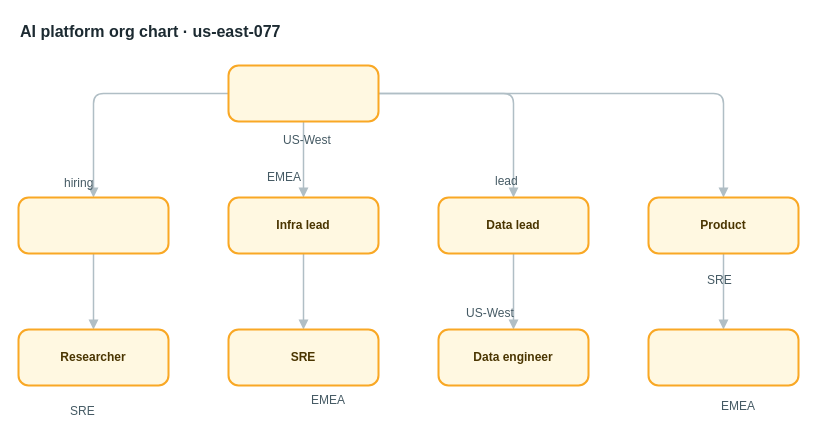
Some shapes in this 816 by 436 pixel diagram are drawn without their labels. The centre of each missing label's shape, as x and y in pixels:
Designer: the point at 723,357
Head of AI: the point at 303,93
ML lead: the point at 93,225
